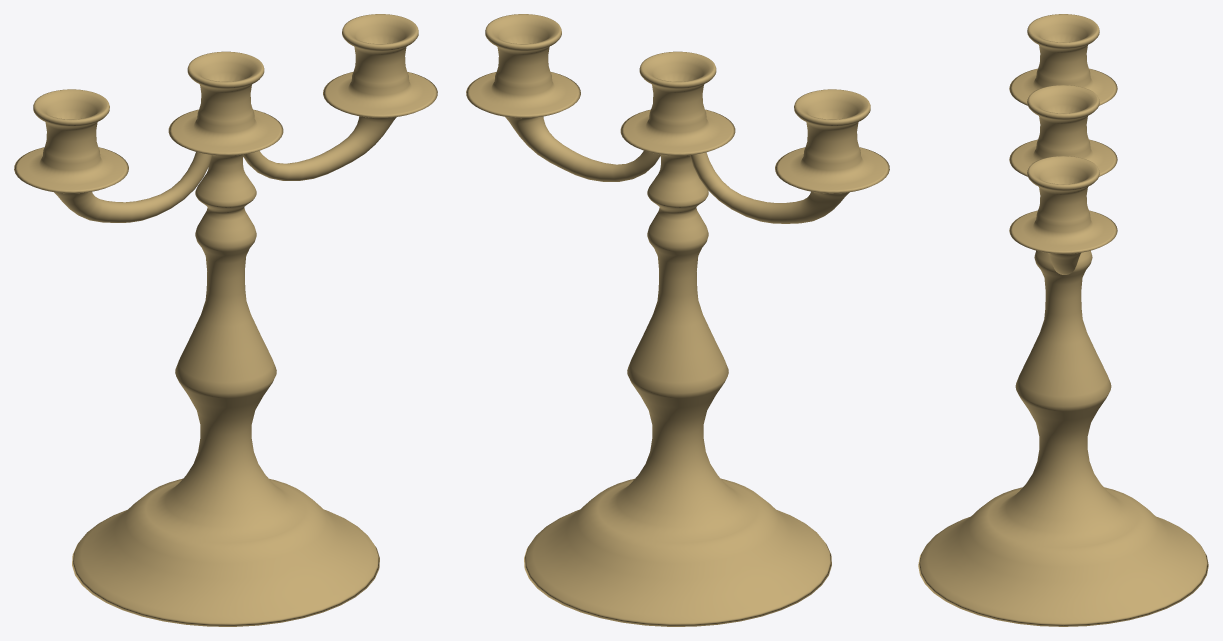
The model's file is Candle.fbx.
3 views of the same model, side by side, from view 1: azimuth 30°, elevation 25°; view 2: azimuth 150°, elevation 25°; view 3: azimuth 270°, elevation 25° (orthographic). The views are drawn at different scales.
Parts seen in each view (by area): view 1: pCylinder4; view 2: pCylinder4; view 3: pCylinder4.
Boxes of the visible parts, x1,y1,x2,y2 form: pCylinder4: [14, 14, 437, 626]; pCylinder4: [466, 14, 889, 626]; pCylinder4: [918, 14, 1208, 626].
Size of the model in its own units: 3.02 by 3.52 by 1.98.
